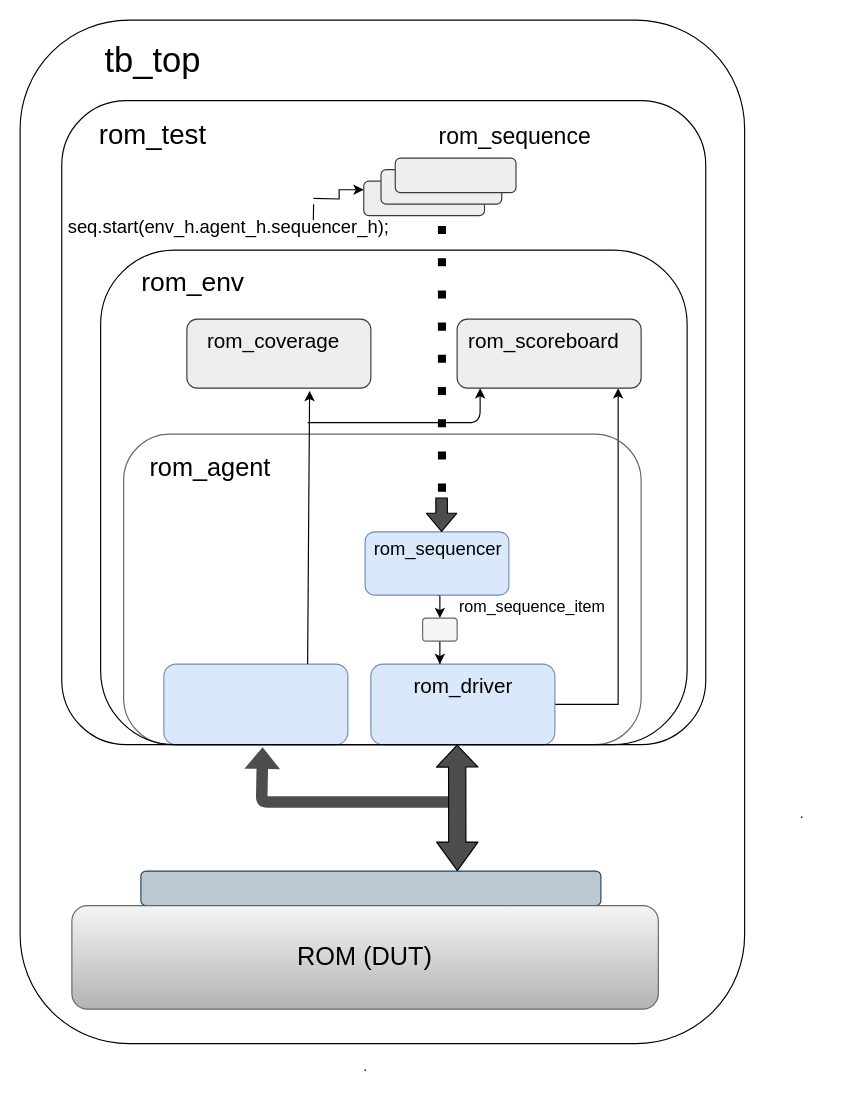
This 845x1098 diagram has some shape labels left out. The box of each missing label's shape, as (x1, y1, x2, y2) in pixels:
interface: (140, 870, 601, 906)
rom_monitor: (163, 663, 348, 745)
